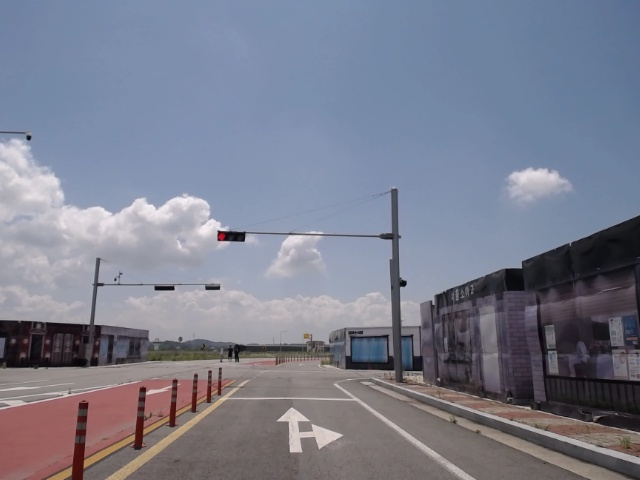red_3: (216, 230, 247, 242)
